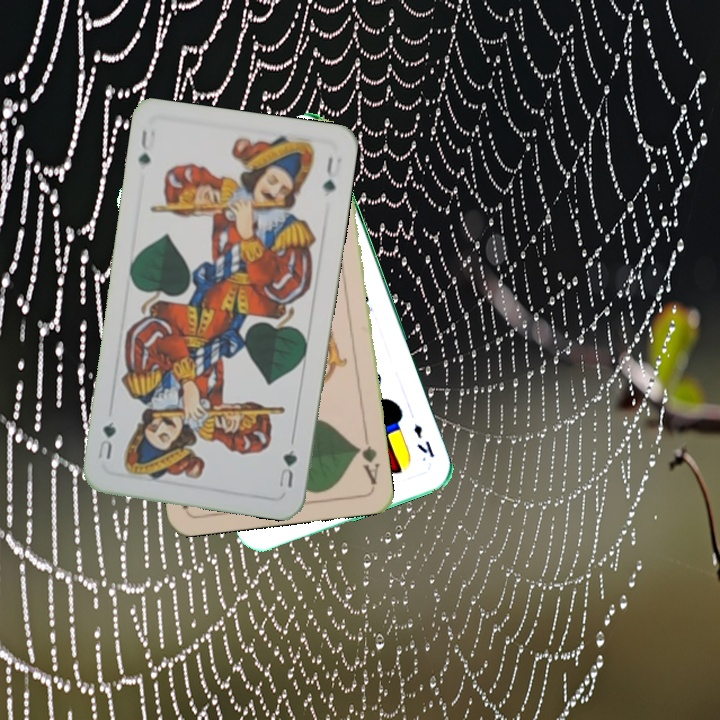EK: (409, 420, 437, 460)
GA: (352, 429, 382, 488)
GU: (275, 444, 300, 490), (134, 124, 158, 167)
